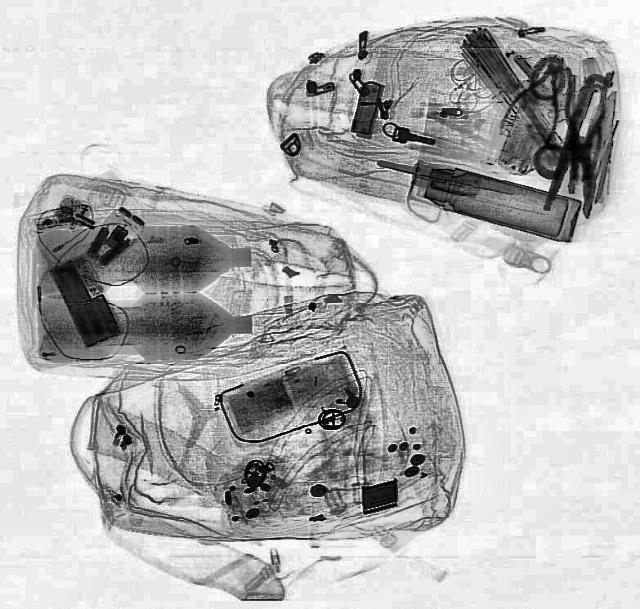Pliers: (498, 45, 582, 146), (549, 67, 611, 197)
